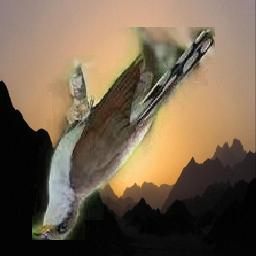Cuckoo: (33, 28, 216, 241)
